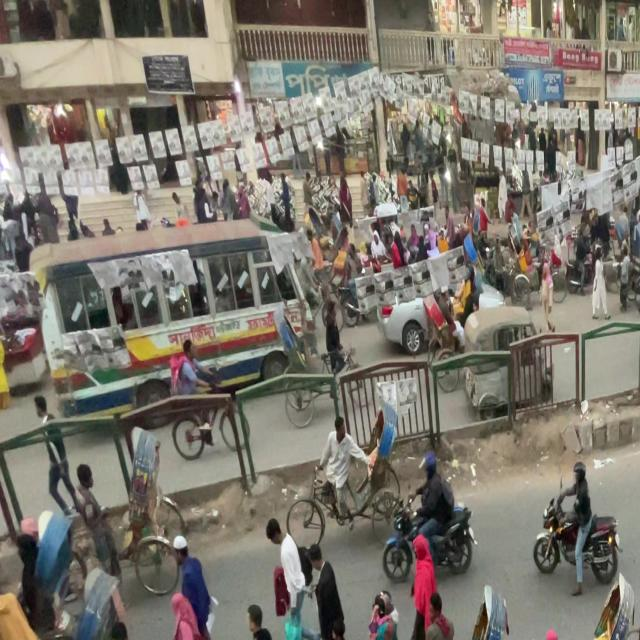bus: (32, 223, 308, 417)
car: (2, 264, 52, 400), (380, 294, 470, 359)
motorbike: (385, 497, 479, 578), (533, 495, 592, 578), (563, 512, 619, 590)
